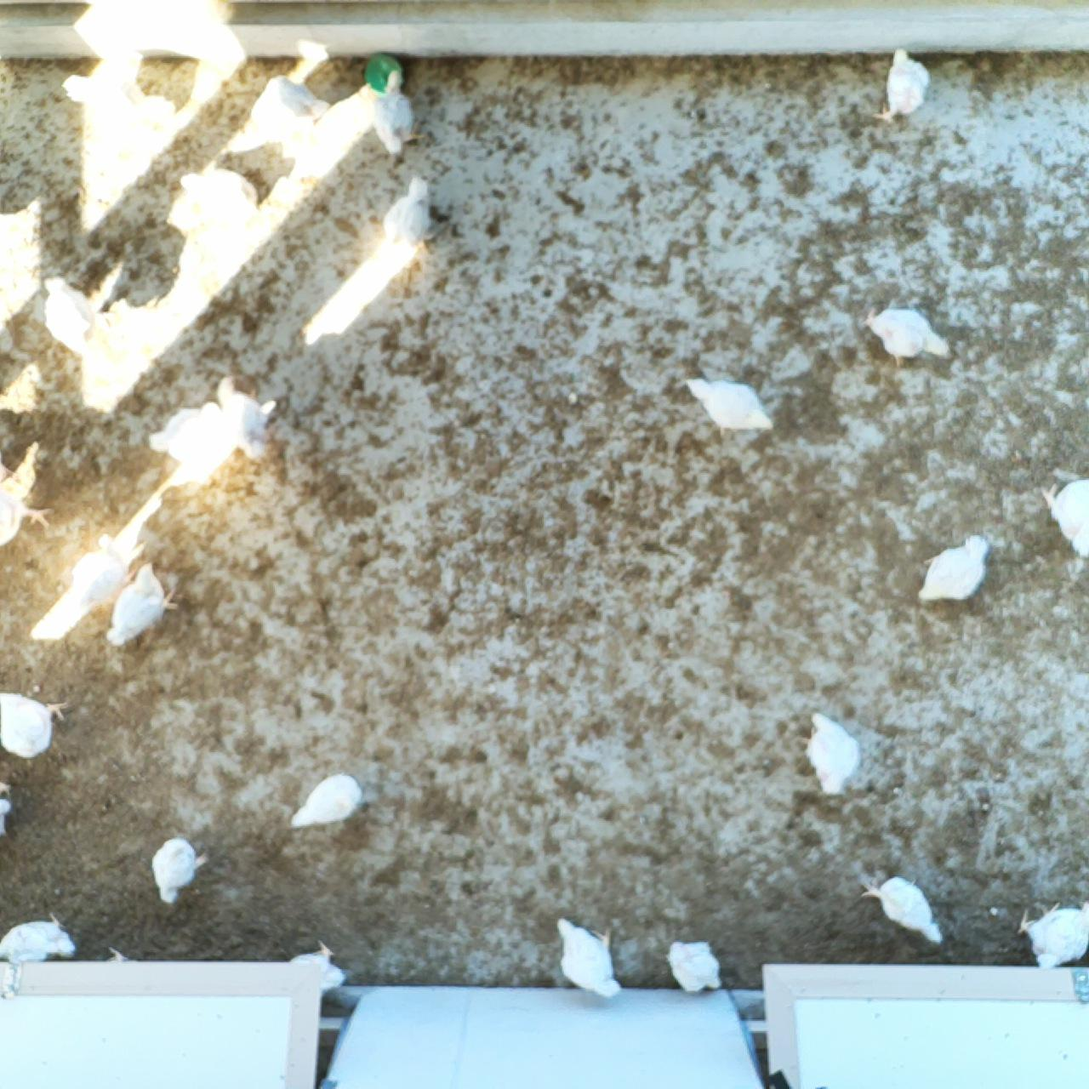chicken: (862, 871, 947, 947), (252, 71, 330, 151), (105, 563, 180, 645), (863, 301, 954, 368), (798, 708, 863, 801), (681, 372, 776, 435), (551, 913, 623, 996), (914, 534, 997, 605), (147, 398, 232, 466), (71, 529, 136, 616), (1019, 895, 1089, 972), (37, 276, 101, 356), (174, 166, 260, 224), (63, 70, 146, 130), (217, 373, 271, 465), (874, 42, 934, 124), (0, 689, 66, 761), (285, 771, 364, 831), (380, 167, 437, 249), (371, 68, 423, 155), (148, 835, 211, 905), (1035, 478, 1089, 558), (0, 910, 74, 965), (0, 484, 59, 548), (278, 940, 347, 992), (664, 938, 724, 996), (0, 779, 15, 839)
